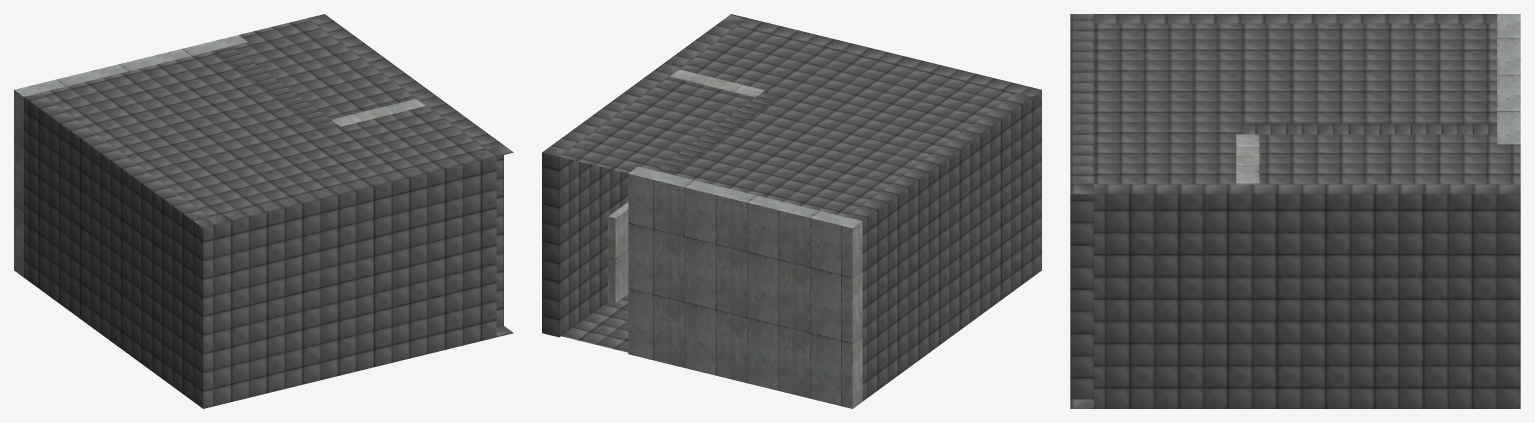
File: Level_30.fbx
3 renders of one model, left to right at view 1: azimuth 30°, elevation 25°; view 2: azimuth 150°, elevation 25°; view 3: azimuth 270°, elevation 25°, orthographic. The views are drawn at different scales.
Visible parts, largest first — view 1: NoTeleport.019, Wall.020; view 2: NoTeleport.019, Wall.020; view 3: NoTeleport.019, Wall.020.
Part boxes in pixels (x1=…): NoTeleport.019: x1=24, y1=14, x2=513, y2=408; Wall.020: x1=14, y1=35, x2=426, y2=277; NoTeleport.019: x1=542, y1=14, x2=1041, y2=401; Wall.020: x1=608, y1=69, x2=862, y2=408; NoTeleport.019: x1=1070, y1=14, x2=1520, y2=408; Wall.020: x1=1236, y1=14, x2=1520, y2=184.
Size of the model in its own units: 18 by 19 by 11.
